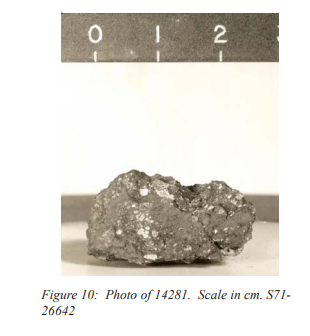Breccia: (90, 162, 263, 268)
